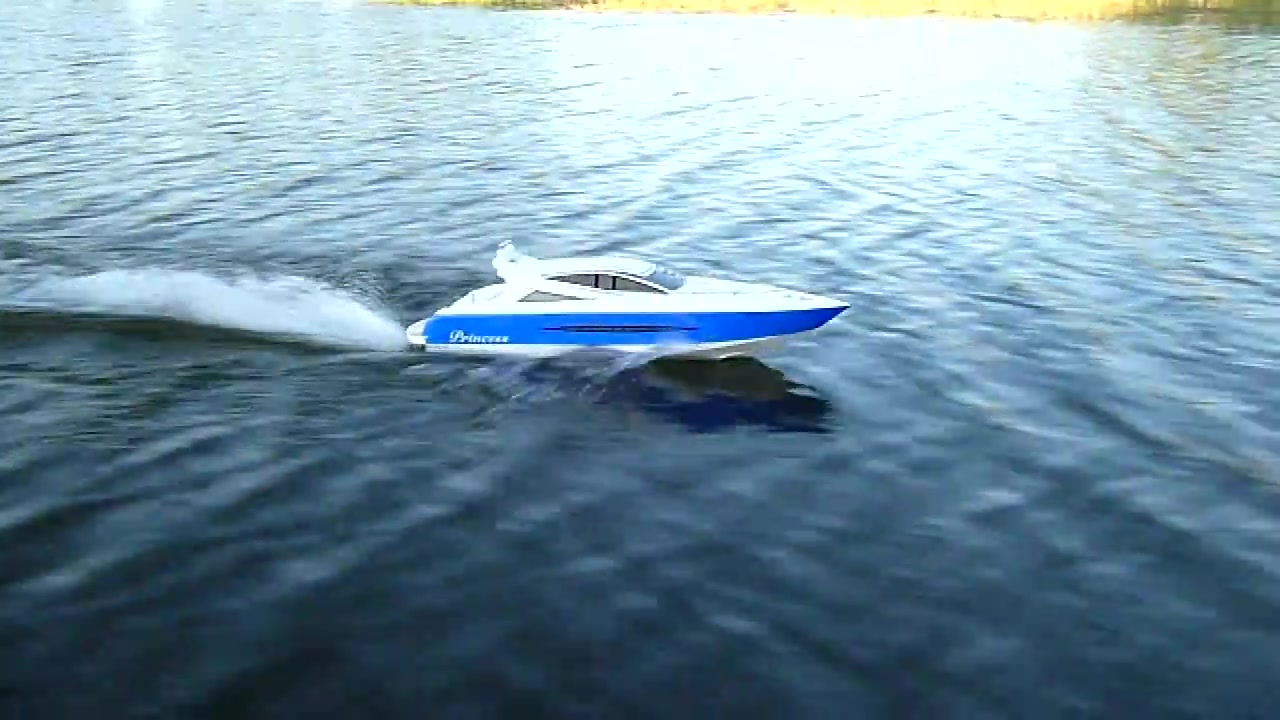boat: (402, 240, 853, 365)
